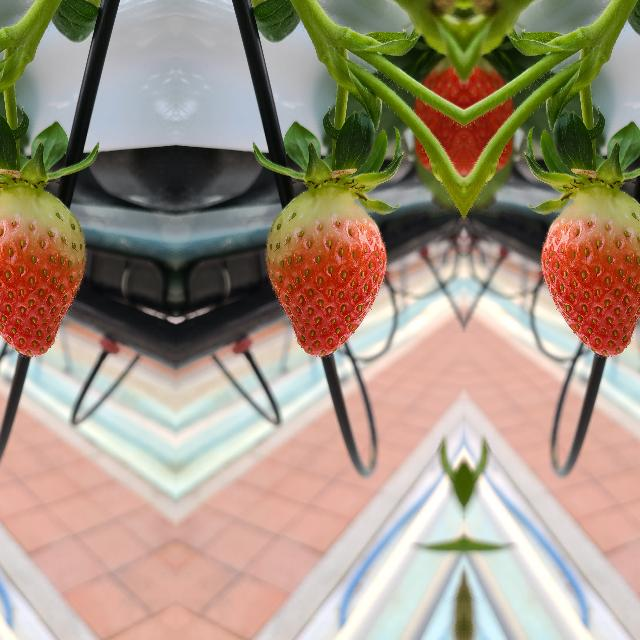Health_75: (262, 188, 386, 358), (540, 188, 640, 358), (0, 188, 87, 358)
